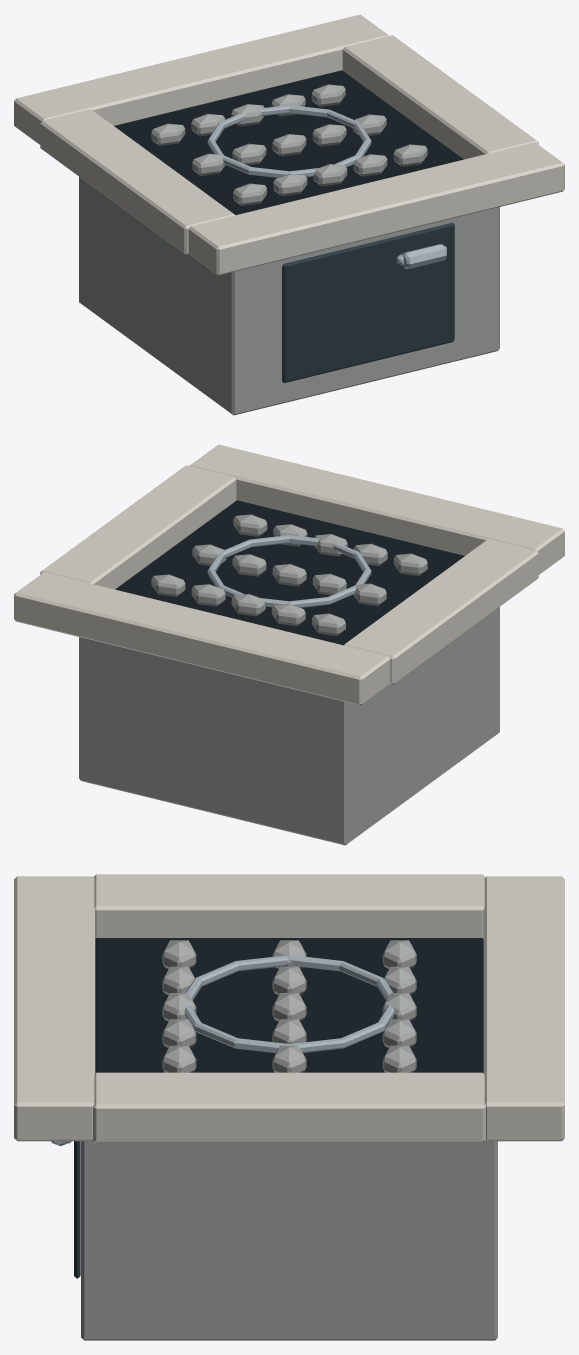
File: b11_square_propane_fire_table.glb
The picture shows the model from 3 angles, top to bottom: view 1: azimuth 30°, elevation 25°; view 2: azimuth 150°, elevation 25°; view 3: azimuth 270°, elevation 25°; orthographic projection. The views are drawn at different scales.
Parts seen in each view (by area): view 1: b11_square_propane_fire_table; view 2: b11_square_propane_fire_table; view 3: b11_square_propane_fire_table.
Part boxes in pixels (<box>): b11_square_propane_fire_table: <box>14,14,564,415</box>; b11_square_propane_fire_table: <box>14,444,564,845</box>; b11_square_propane_fire_table: <box>14,874,564,1340</box>.
Size of the model in its own units: 1.15 by 0.61 by 1.15.
